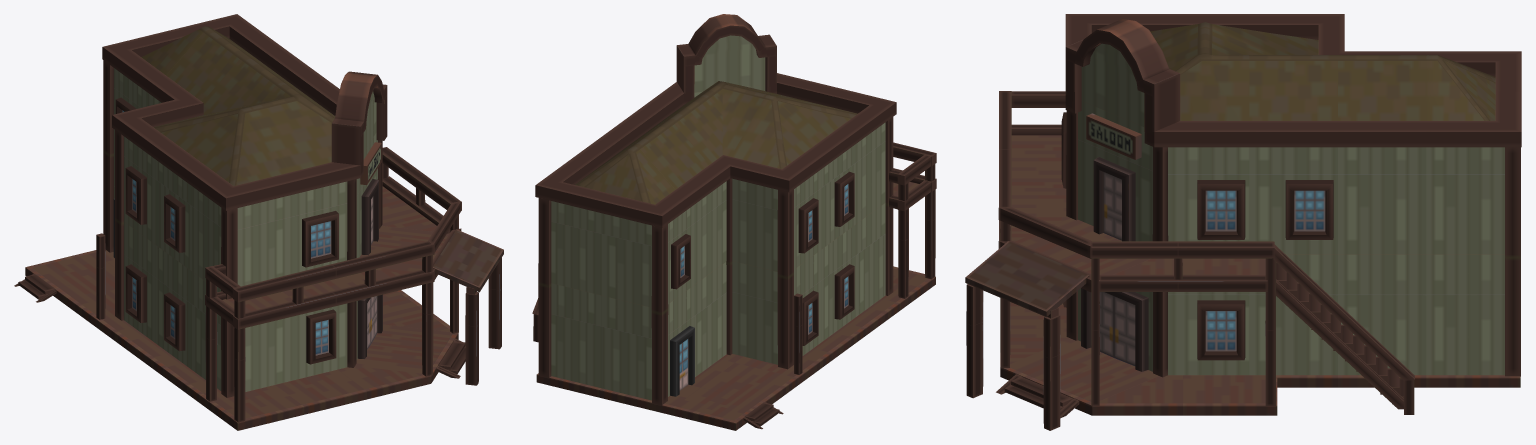
File: house_v4_03_ncl1_2.fbx
3 views of the same model, side by side, from view 1: azimuth 30°, elevation 25°; view 2: azimuth 150°, elevation 25°; view 3: azimuth 270°, elevation 25° (orthographic). The views are drawn at different scales.
Parts seen in each view (by area): view 1: house_v4_03; view 2: house_v4_03; view 3: house_v4_03.
Boxes of the visible parts, x1,y1,x2,y2 form: house_v4_03: (14,14,503,430); house_v4_03: (532,14,936,430); house_v4_03: (965,14,1521,430).
Bounding box in the file's own units: 973 × 842 × 1257.
